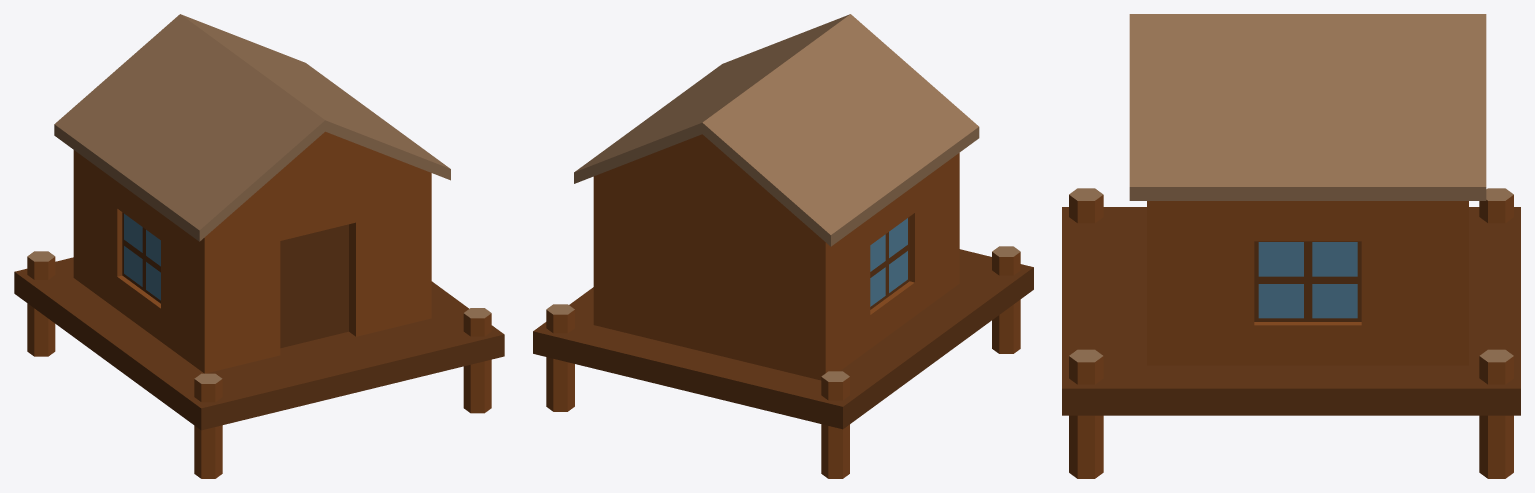
The model's file is Cabin.fbx.
3 views of the same model, side by side, from view 1: azimuth 30°, elevation 25°; view 2: azimuth 150°, elevation 25°; view 3: azimuth 270°, elevation 25° (orthographic). The views are drawn at different scales.
Visible parts, largest first — view 1: Cabin; view 2: Cabin; view 3: Cabin.
Boxes of the visible parts, x1,y1,x2,y2 form: Cabin: (14, 14, 504, 478); Cabin: (533, 14, 1033, 478); Cabin: (1062, 14, 1520, 478).
Bounding box in the file's own units: 3.97 × 3.85 × 4.24.
